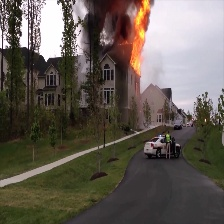fire: (118, 1, 156, 75)
